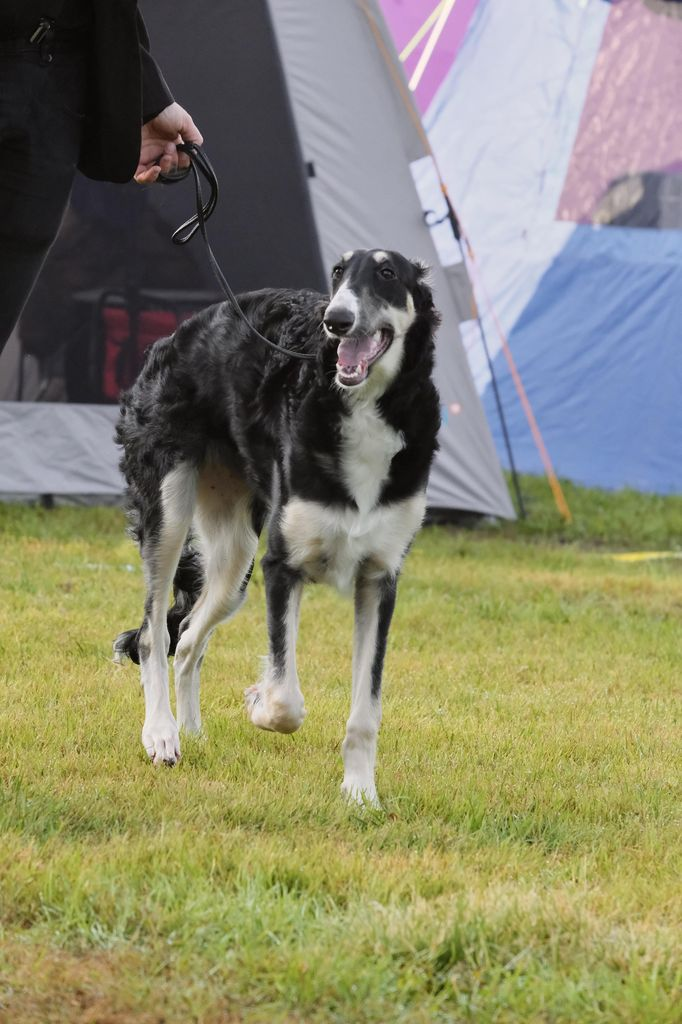borzoi: (88, 237, 466, 820)
